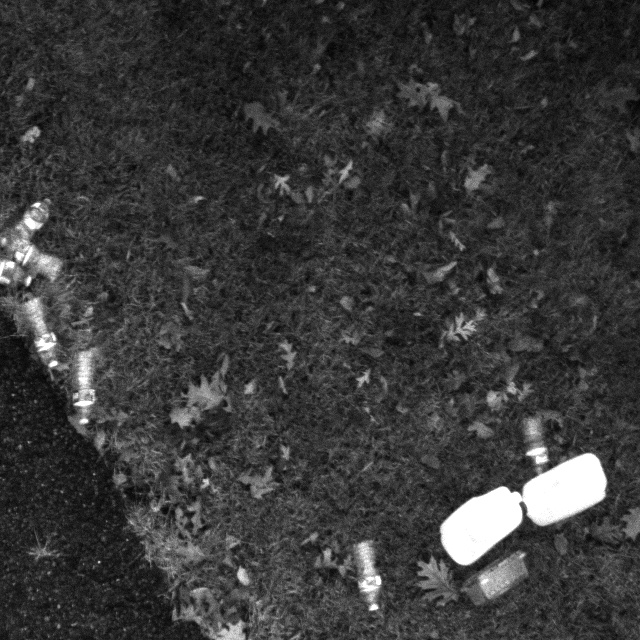bottle: (0, 189, 60, 259), (19, 295, 69, 376), (7, 240, 81, 287), (517, 413, 564, 487), (350, 537, 390, 623), (67, 345, 105, 435)
can: (522, 443, 619, 531), (435, 479, 528, 568)
container: (452, 549, 540, 614)
